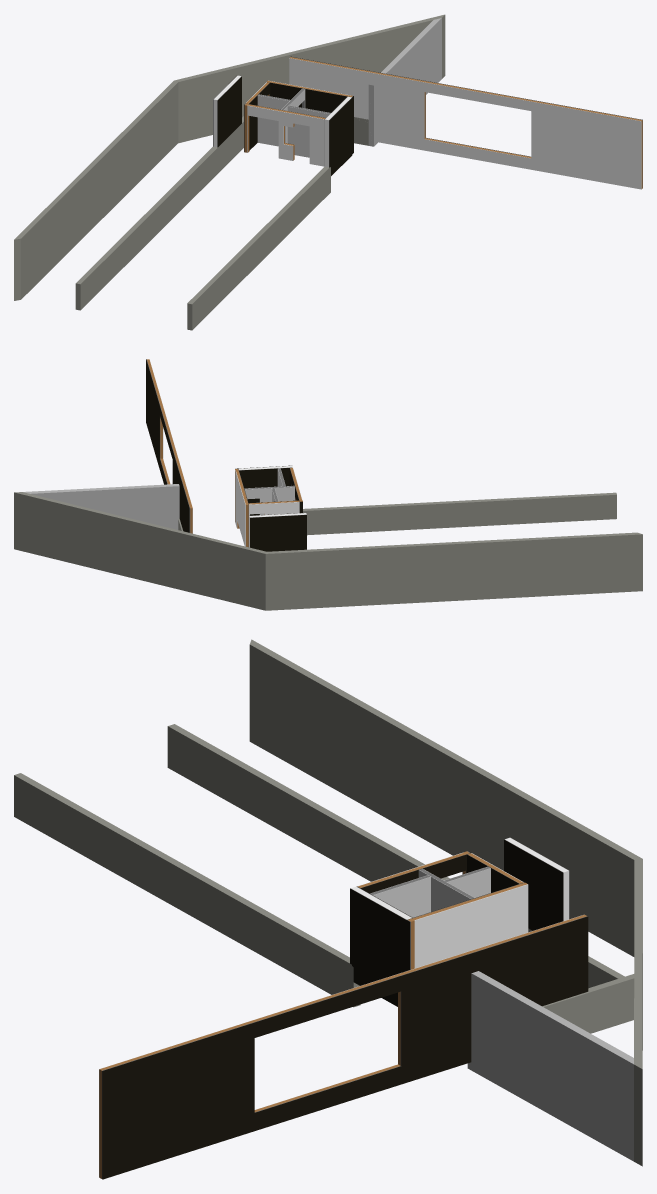
File: rac_basic_sample_project_Level_1_IfcWallStandardCase.dae
3 renders of one model, top to bottom at view 1: azimuth 30°, elevation 25°; view 2: azimuth 150°, elevation 25°; view 3: azimuth 270°, elevation 25°, orthographic. The views are drawn at different scales.
Parts seen in each view (by area): view 1: 38NblWsDL1I8DljLvn67Sd, 0NWseyvsH7_gBW225aGtwW, 0NWseyvsH7_gBW225aGtx$, 1RUi90wQT3ihQ$96bMNGiu, 1RUi90wQT3ihQ$96bMNGrh, 0NWseyvsH7_gBW225aGtyM, 3lLx0gNe59vvExhby0Bff1, 2hD3j_DmLBXxhCCy1gOWRm, 1oPutv5ADAxgWEbAZbN6Wv, 3rPRxvVIT7WRZKOFIc3wXL, 2pfAHb2EL46hq_sMVbImEh, 1$p8tACJ938vr1_lKOJJ0t (+1 smaller); view 2: 0NWseyvsH7_gBW225aGtwW, 0NWseyvsH7_gBW225aGtx$, 1RUi90wQT3ihQ$96bMNGrh, 0NWseyvsH7_gBW225aGtyM, 38NblWsDL1I8DljLvn67Sd, 1oPutv5ADAxgWEbAZbN6Wv, 2hD3j_DmLBXxhCCy1gOWRm, 3rPRxvVIT7WRZKOFIc3wXL, 1PDnLIM013wvkZO9Lb4$wc, 1PDnLIM013wvkZO9Lb4$GV; view 3: 38NblWsDL1I8DljLvn67Sd, 0NWseyvsH7_gBW225aGtwW, 0NWseyvsH7_gBW225aGtyM, 1RUi90wQT3ihQ$96bMNGrh, 1RUi90wQT3ihQ$96bMNGiu, 3rPRxvVIT7WRZKOFIc3wXL, 2hD3j_DmLBXxhCCy1gOWRm, 1oPutv5ADAxgWEbAZbN6Wv, 1RUi90wQT3ihQ$96bMNGvH, 0NWseyvsH7_gBW225aGtx$, 1$p8tACJ938vr1_lKOJJ0t, 3lLx0gNe59vvExhby0Bff1 (+3 smaller).
Part boxes in pixels (<box>): 38NblWsDL1I8DljLvn67Sd: <box>289,56,642,189</box>; 0NWseyvsH7_gBW225aGtwW: <box>14,78,181,300</box>; 0NWseyvsH7_gBW225aGtx$: <box>178,14,445,143</box>; 1RUi90wQT3ihQ$96bMNGiu: <box>75,116,243,310</box>; 1RUi90wQT3ihQ$96bMNGrh: <box>187,166,330,330</box>; 0NWseyvsH7_gBW225aGtyM: <box>368,18,441,146</box>; 3lLx0gNe59vvExhby0Bff1: <box>244,103,325,166</box>; 2hD3j_DmLBXxhCCy1gOWRm: <box>324,96,352,175</box>; 1oPutv5ADAxgWEbAZbN6Wv: <box>213,75,241,147</box>; 3rPRxvVIT7WRZKOFIc3wXL: <box>267,80,353,153</box>; 2pfAHb2EL46hq_sMVbImEh: <box>257,94,290,146</box>; 1$p8tACJ938vr1_lKOJJ0t: <box>287,105,330,157</box>; 0NWseyvsH7_gBW225aGtwW: <box>258,532,642,610</box>; 0NWseyvsH7_gBW225aGtx$: <box>14,492,265,608</box>; 1RUi90wQT3ihQ$96bMNGrh: <box>303,492,616,535</box>; 0NWseyvsH7_gBW225aGtyM: <box>23,484,179,529</box>; 38NblWsDL1I8DljLvn67Sd: <box>146,359,192,533</box>; 1oPutv5ADAxgWEbAZbN6Wv: <box>249,513,306,551</box>; 2hD3j_DmLBXxhCCy1gOWRm: <box>238,465,292,515</box>; 3rPRxvVIT7WRZKOFIc3wXL: <box>235,468,248,547</box>; 1PDnLIM013wvkZO9Lb4$wc: <box>248,500,299,546</box>; 1PDnLIM013wvkZO9Lb4$GV: <box>244,485,294,515</box>; 38NblWsDL1I8DljLvn67Sd: <box>99,914,588,1179</box>; 0NWseyvsH7_gBW225aGtwW: <box>249,639,642,956</box>; 0NWseyvsH7_gBW225aGtyM: <box>467,971,633,1161</box>; 1RUi90wQT3ihQ$96bMNGrh: <box>14,773,360,1007</box>; 1RUi90wQT3ihQ$96bMNGiu: <box>167,724,624,988</box>; 3rPRxvVIT7WRZKOFIc3wXL: <box>406,882,528,970</box>; 2hD3j_DmLBXxhCCy1gOWRm: <box>350,886,412,1006</box>; 1oPutv5ADAxgWEbAZbN6Wv: <box>504,837,569,930</box>; 1RUi90wQT3ihQ$96bMNGvH: <box>542,974,634,1033</box>; 0NWseyvsH7_gBW225aGtx$: <box>634,860,642,1166</box>; 1$p8tACJ938vr1_lKOJJ0t: <box>370,875,430,917</box>; 3lLx0gNe59vvExhby0Bff1: <box>357,851,470,893</box>.
Bounding box in the file's own units: 34.82 × 20.51 × 4.2.
